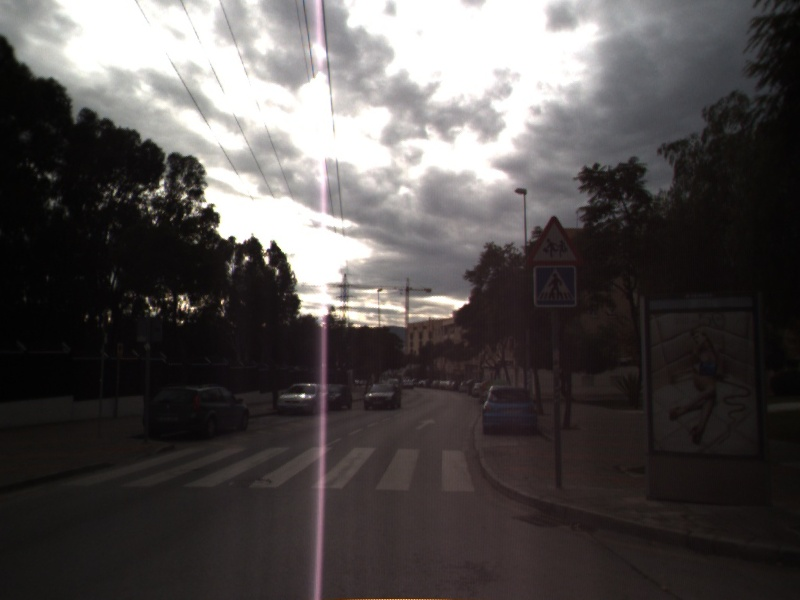STRAIGHT: (413, 416, 439, 432)
